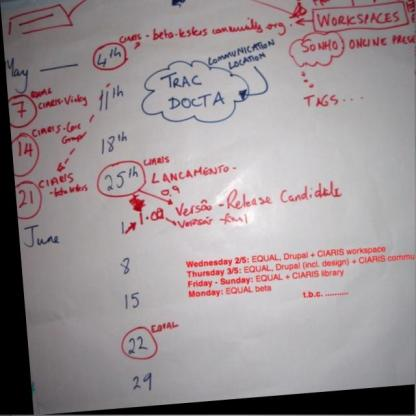Handwritten text: (170, 169, 344, 215), (110, 18, 291, 44), (202, 29, 282, 70), (28, 111, 89, 142), (32, 88, 90, 117), (311, 10, 403, 28), (150, 165, 231, 185), (226, 40, 271, 76), (350, 32, 414, 57), (45, 177, 95, 205), (29, 165, 78, 193), (165, 93, 233, 113), (157, 68, 210, 91), (19, 222, 64, 249), (173, 214, 245, 230), (6, 52, 29, 93), (23, 79, 63, 102), (301, 38, 340, 59), (302, 91, 342, 111), (149, 315, 188, 333), (52, 130, 89, 148), (138, 154, 174, 168)
